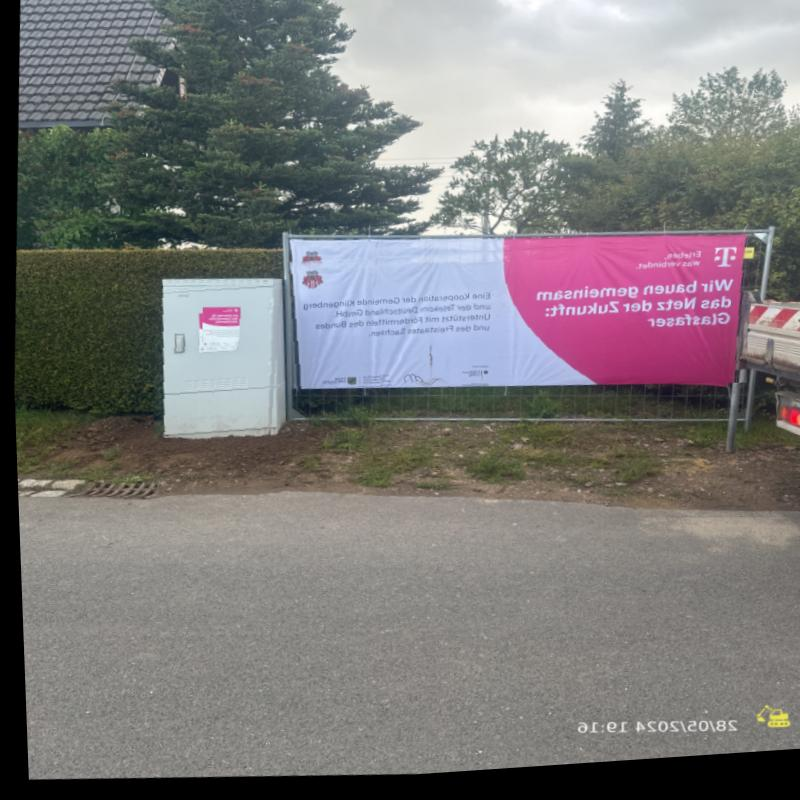Banner: (279, 222, 751, 417)
NT-Gehause: (145, 277, 284, 453)
Steaker: (199, 311, 237, 350)
